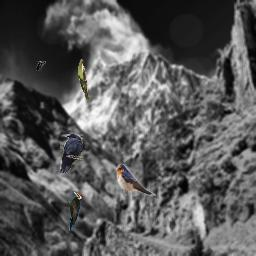Crow: (60, 134, 83, 173), (36, 61, 46, 71)
Cuckoo: (78, 59, 89, 99)
Swallow: (116, 164, 156, 196)
Woodpecker: (67, 191, 84, 231)
